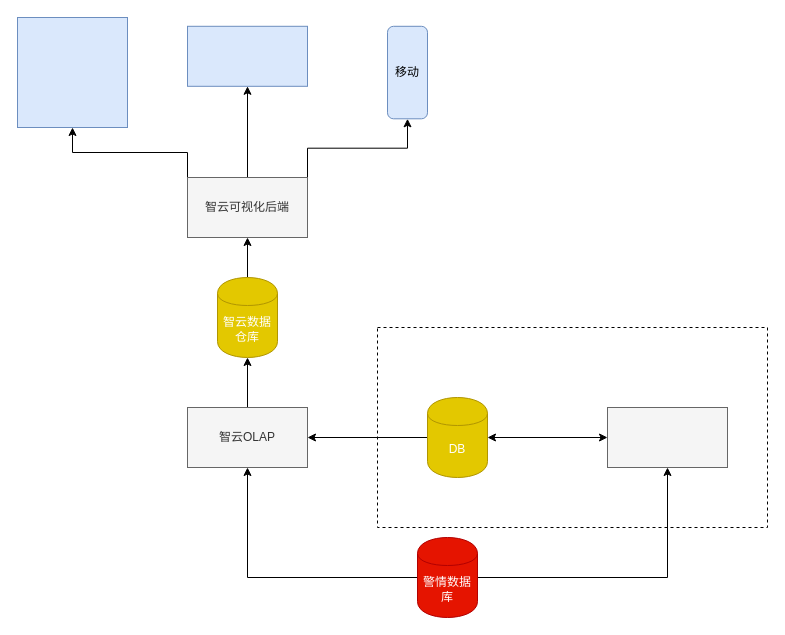
Some shapes in this 785 by 635 pixel diagram are drawn without their labels. The box of each missing label's shape, as (x1, y1, x2, y2) in pixels:
PC: (186, 25, 308, 86)
大屏: (16, 16, 128, 128)
智云警情下派系统: (606, 406, 728, 468)
